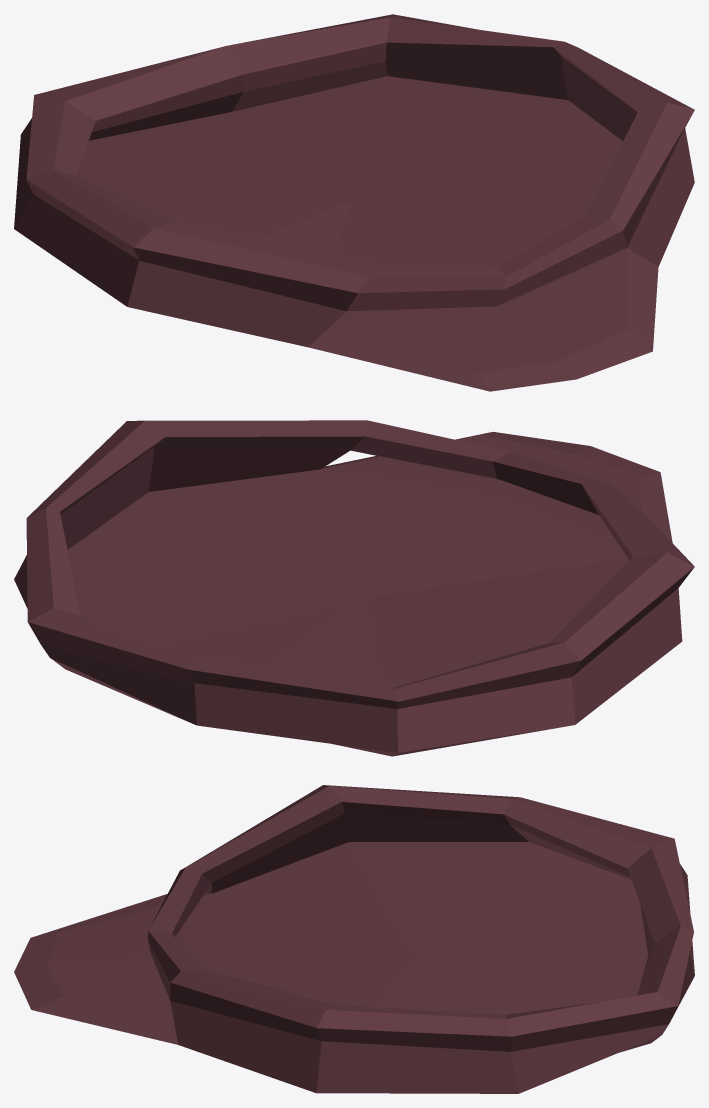
File: pool-inflatable-broken.fbx
3 views of the same model, one above another, from view 1: azimuth 30°, elevation 25°; view 2: azimuth 150°, elevation 25°; view 3: azimuth 270°, elevation 25° (orthographic). The views are drawn at different scales.
Visible parts, largest first — view 1: pool-inflatable-broken; view 2: pool-inflatable-broken; view 3: pool-inflatable-broken.
Part boxes in pixels (left/top/right/bottom): pool-inflatable-broken: left=14, top=14, right=694, bottom=391; pool-inflatable-broken: left=14, top=420, right=694, bottom=756; pool-inflatable-broken: left=14, top=785, right=694, bottom=1093.
Size of the model in its own units: 2.74 by 0.406 by 3.19.
